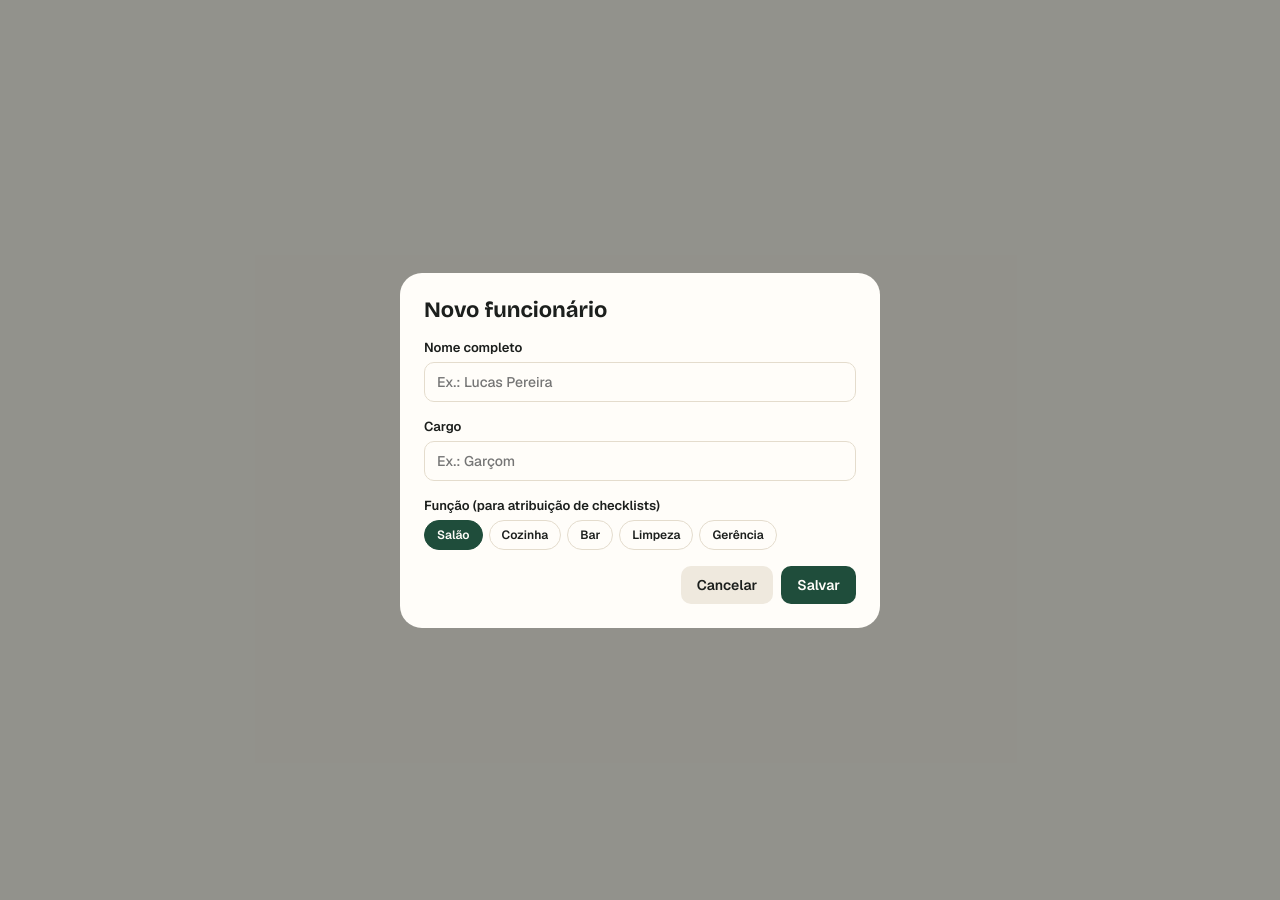
Test: US13 — modal de funcionário › nome/cargo vazios validam no modal; erro da API aparece no topo (erro)
Click the button "Salvar": (819, 584) top-left (781, 566), bottom-right (856, 604)
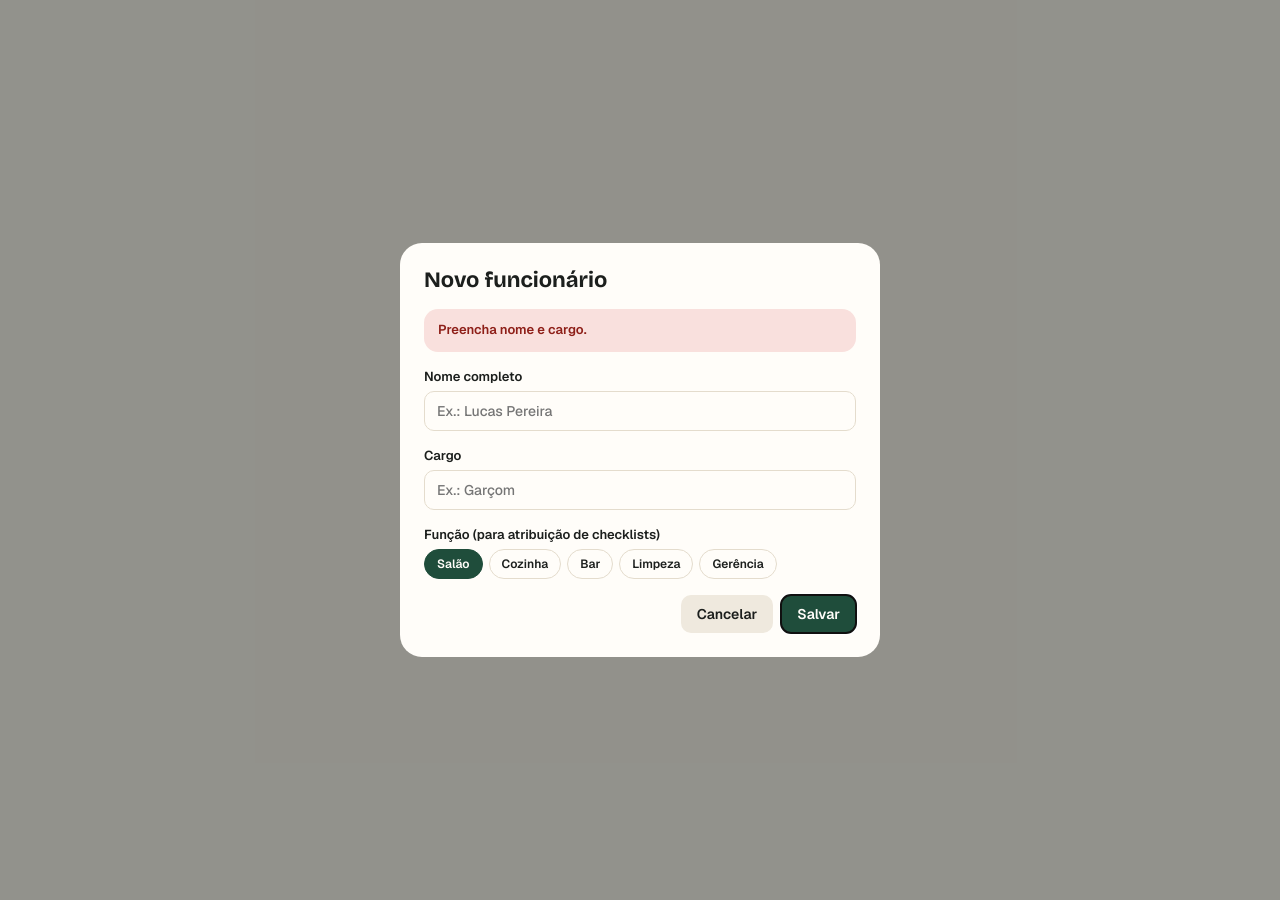
Check: the message reads "Preencha nome e cargo.", box top-left (438, 321), bottom-right (587, 338)
In the field labelled "Nome completo": (640, 411) top-left (424, 391), bottom-right (856, 431), type "Rita"
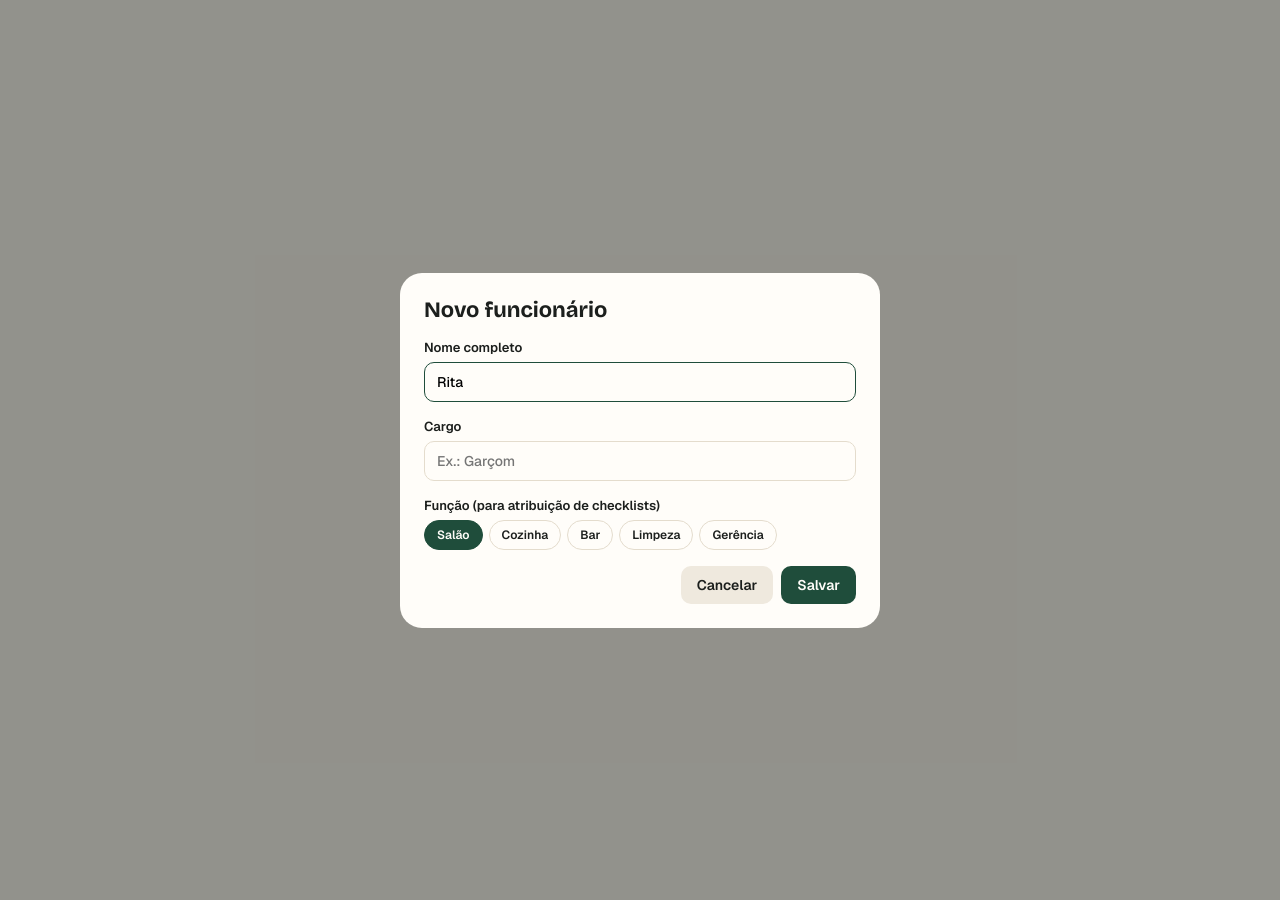
In the field labelled "Cargo": (640, 460) top-left (424, 440), bottom-right (856, 480), type "Sub"
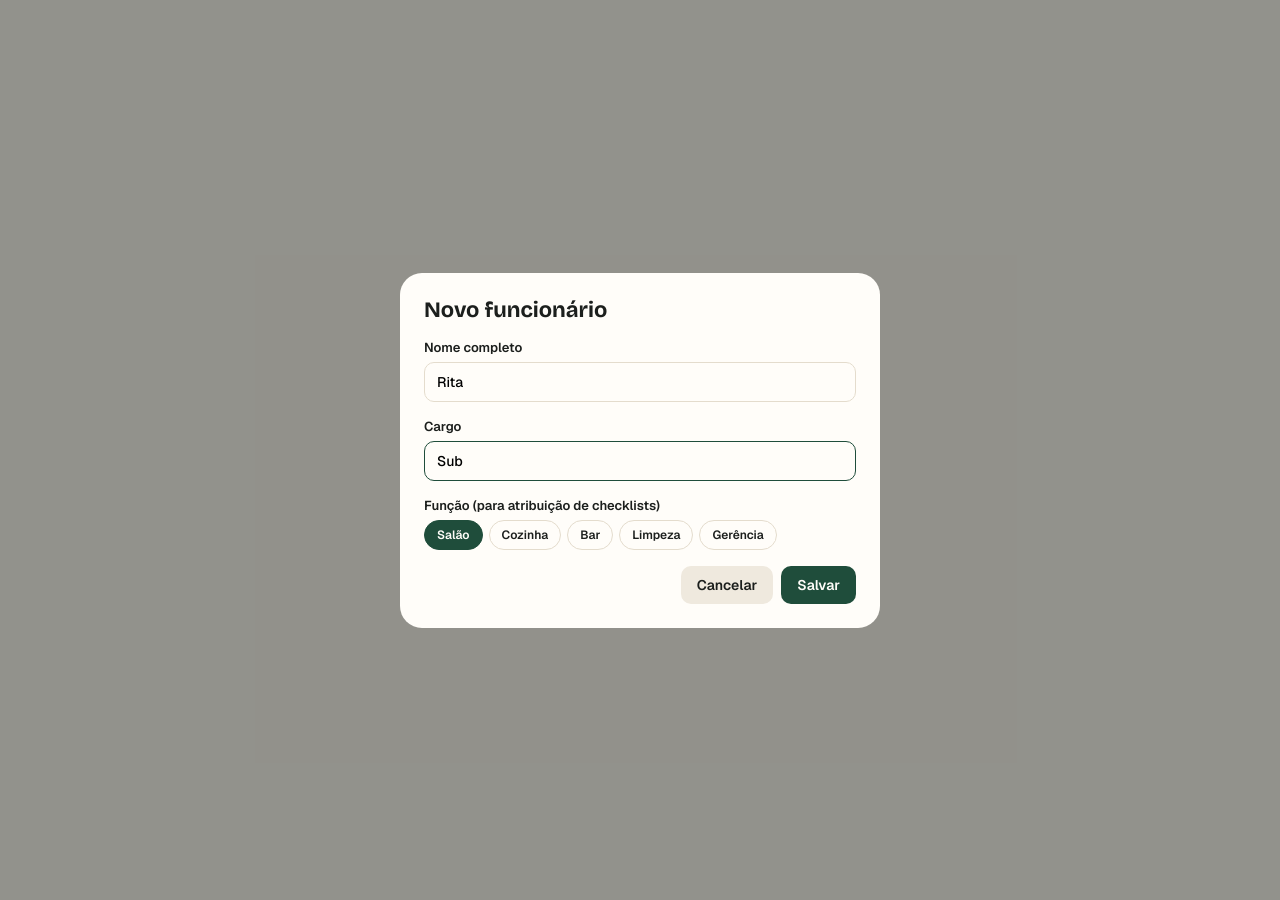
Click the button "Salvar": (819, 584) top-left (781, 566), bottom-right (856, 604)
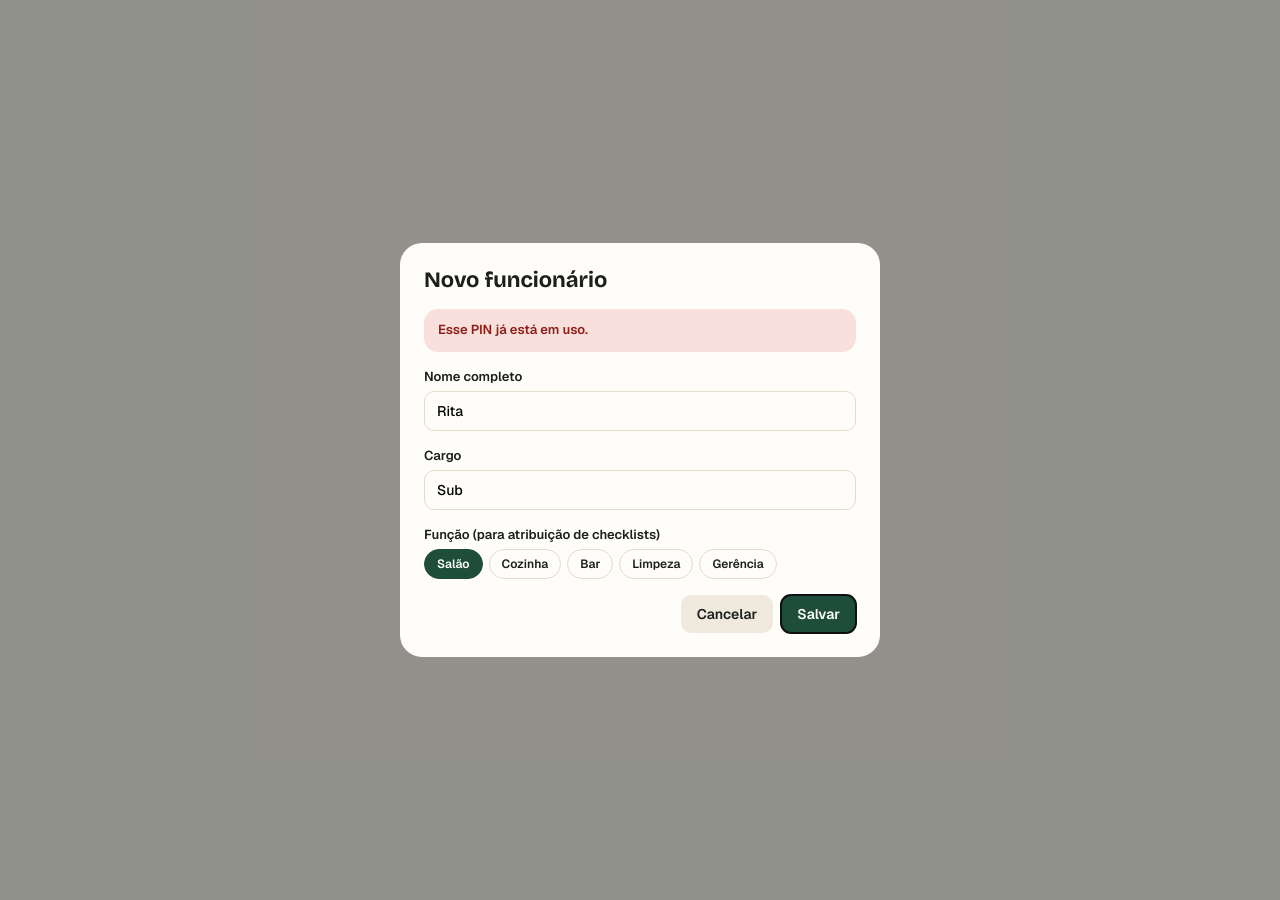
Check: the message reads "Esse PIN já está em uso.", box top-left (438, 321), bottom-right (588, 338)
